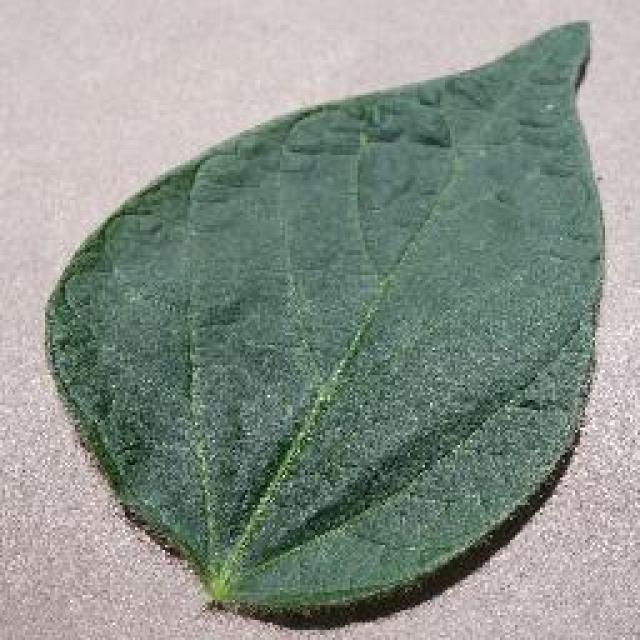Soy_healthy: (59, 91, 616, 588)
